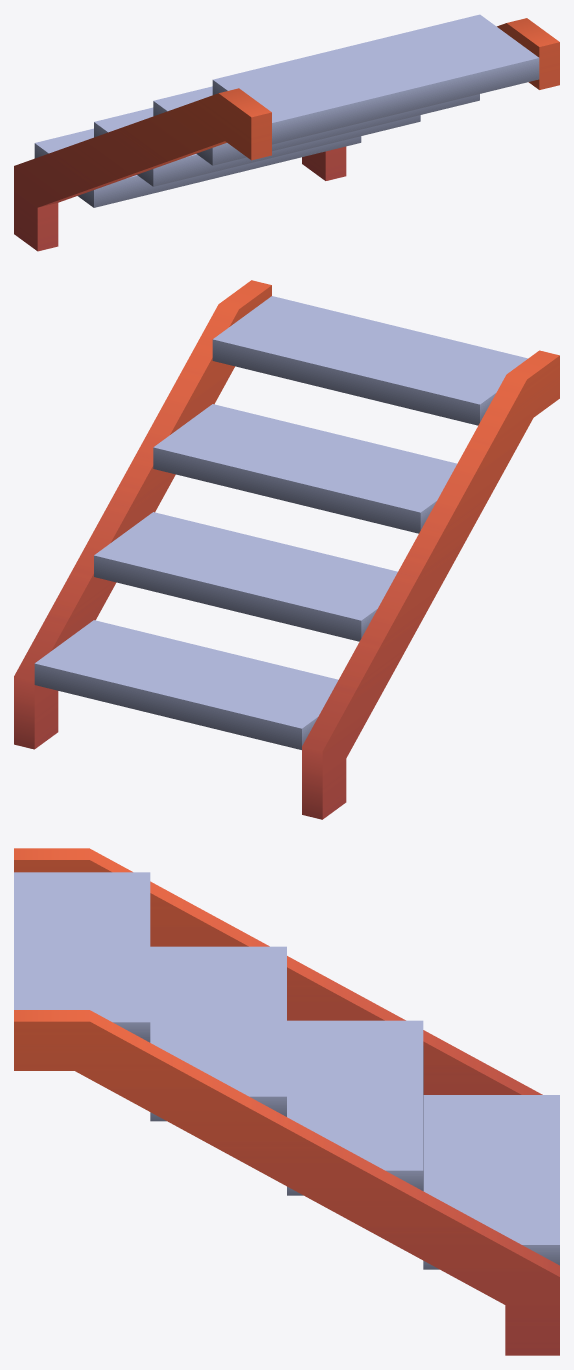
Rendered from Stairs Sides Short.glb.
3 renders of one model, top to bottom at view 1: azimuth 30°, elevation 25°; view 2: azimuth 150°, elevation 25°; view 3: azimuth 270°, elevation 25°, orthographic. The views are drawn at different scales.
Visible parts, largest first — view 1: stairs-sides-short, Group, Group_1; view 2: stairs-sides-short, Group, Group_1; view 3: stairs-sides-short, Group_1, Group.
Part boxes in pixels (<box>): stairs-sides-short: <box>34,14,539,207</box>; Group: <box>14,88,271,251</box>; Group_1: <box>302,18,559,180</box>; stairs-sides-short: <box>34,296,527,749</box>; Group: <box>302,350,559,819</box>; Group_1: <box>14,280,271,749</box>; stairs-sides-short: <box>14,872,559,1269</box>; Group_1: <box>14,1010,559,1355</box>; Group: <box>14,848,542,1094</box>.
Bounding box in the file's own units: 1.5 × 1.35 × 2.
Materials: 1 (1 with a texture image).
